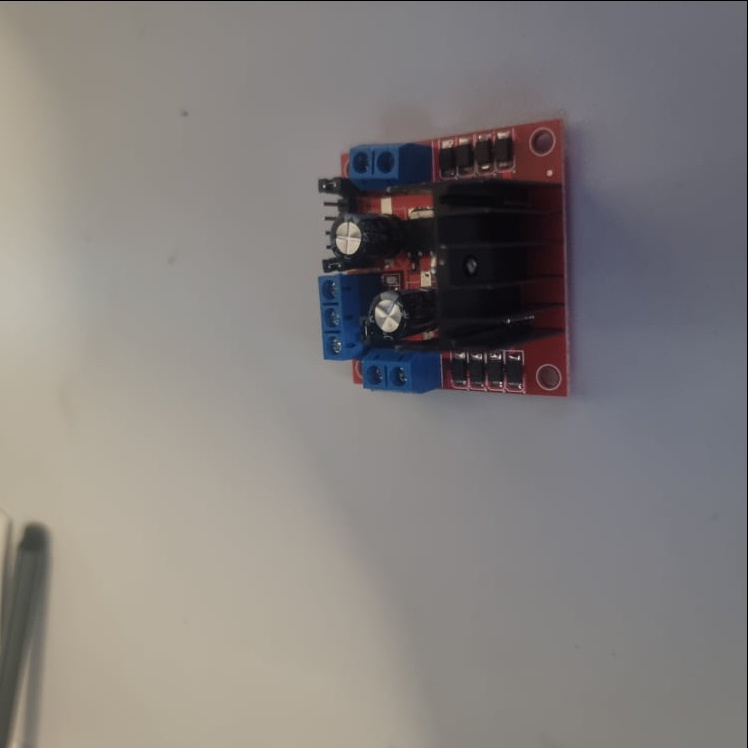MOTOR: (312, 114, 575, 394)
